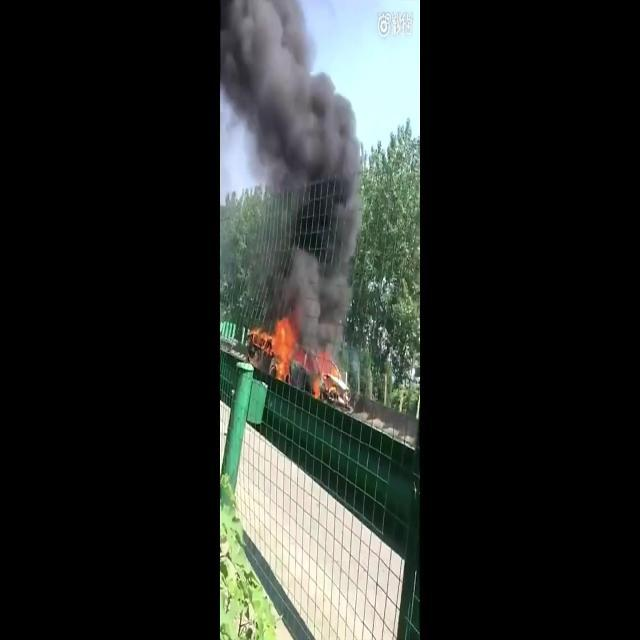Fire: (244, 307, 356, 410)
Smoke: (226, 6, 366, 308)
